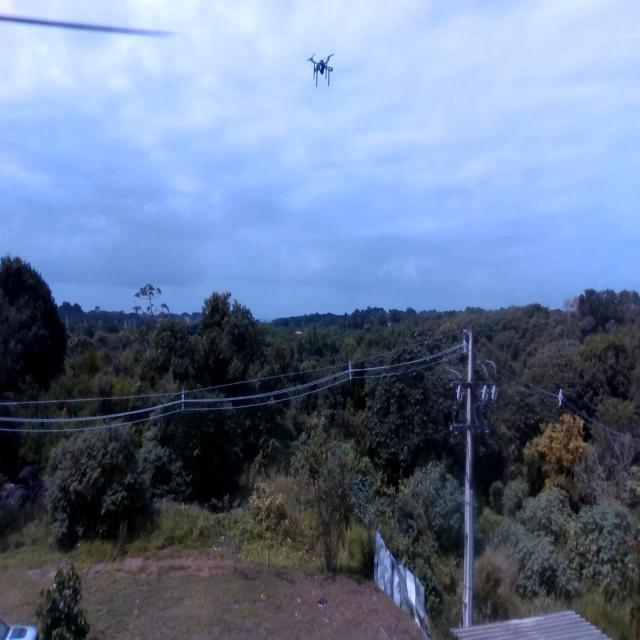-uav-: (300, 41, 342, 98)
